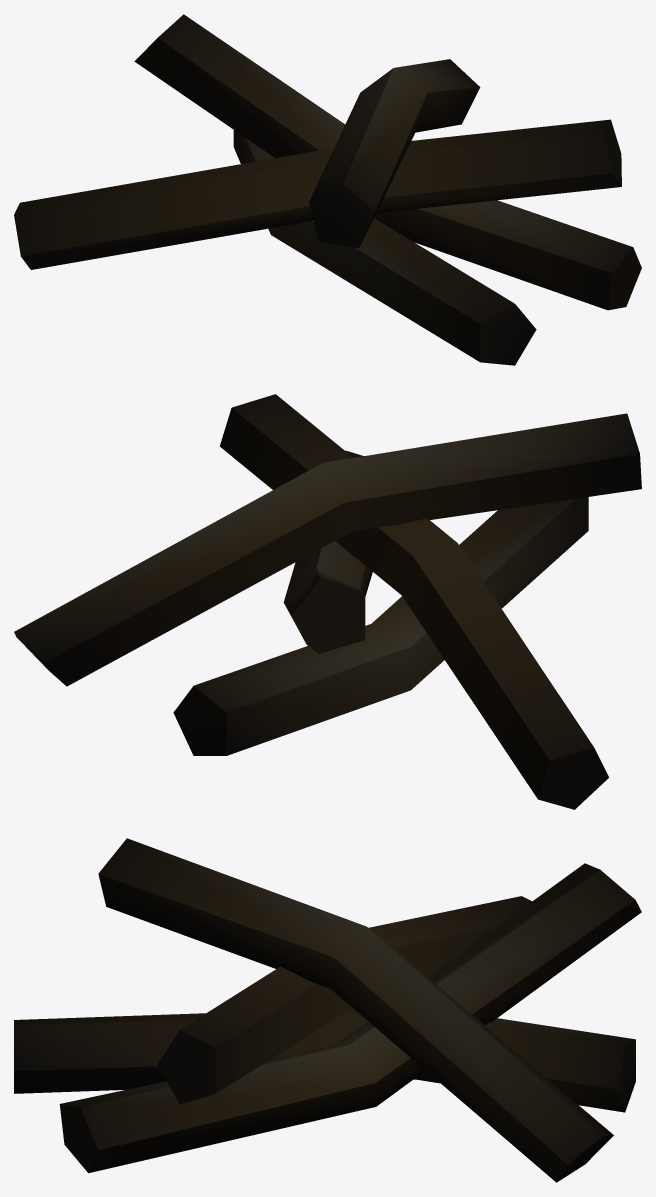
The model's file is firewood.fbx.
3 renders of one model, top to bottom at view 1: azimuth 30°, elevation 25°; view 2: azimuth 150°, elevation 25°; view 3: azimuth 270°, elevation 25°, orthographic. The views are drawn at different scales.
Visible parts, largest first — view 1: firewood; view 2: firewood; view 3: firewood.
Part boxes in pixels (box(x1,y1,x2,y2)): firewood: box(14, 14, 641, 365); firewood: box(14, 394, 641, 809); firewood: box(14, 838, 641, 1182).
Bounding box in the file's own units: 63.05 × 22.74 × 63.53.
